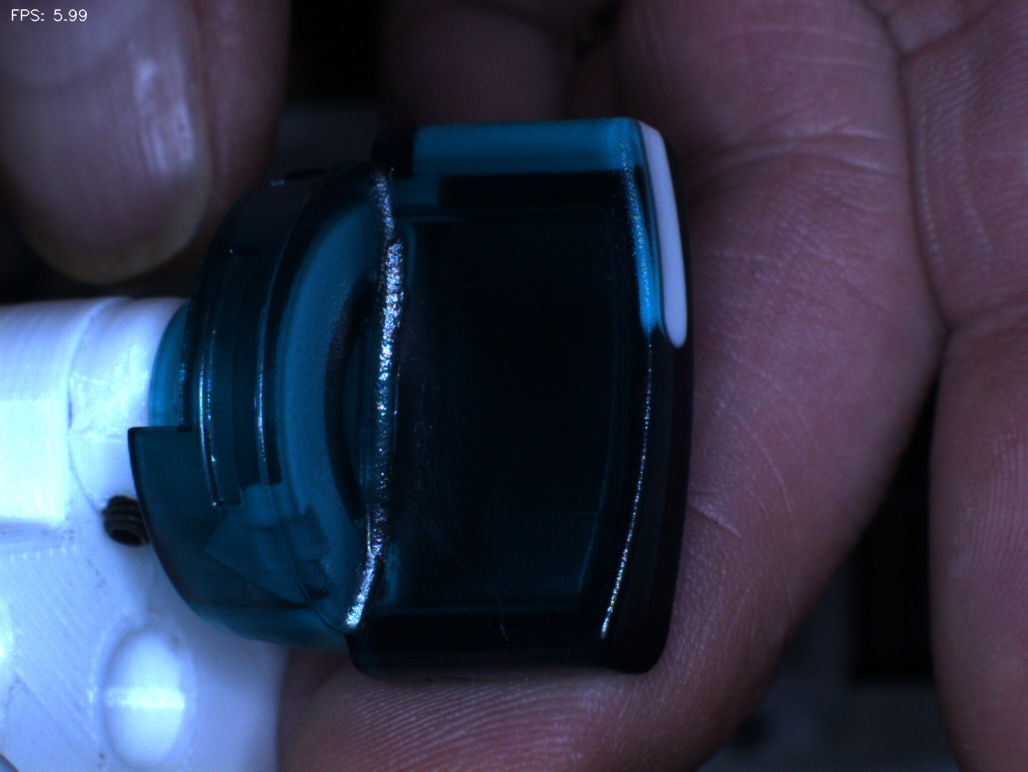Givrage: (405, 359, 517, 634)
